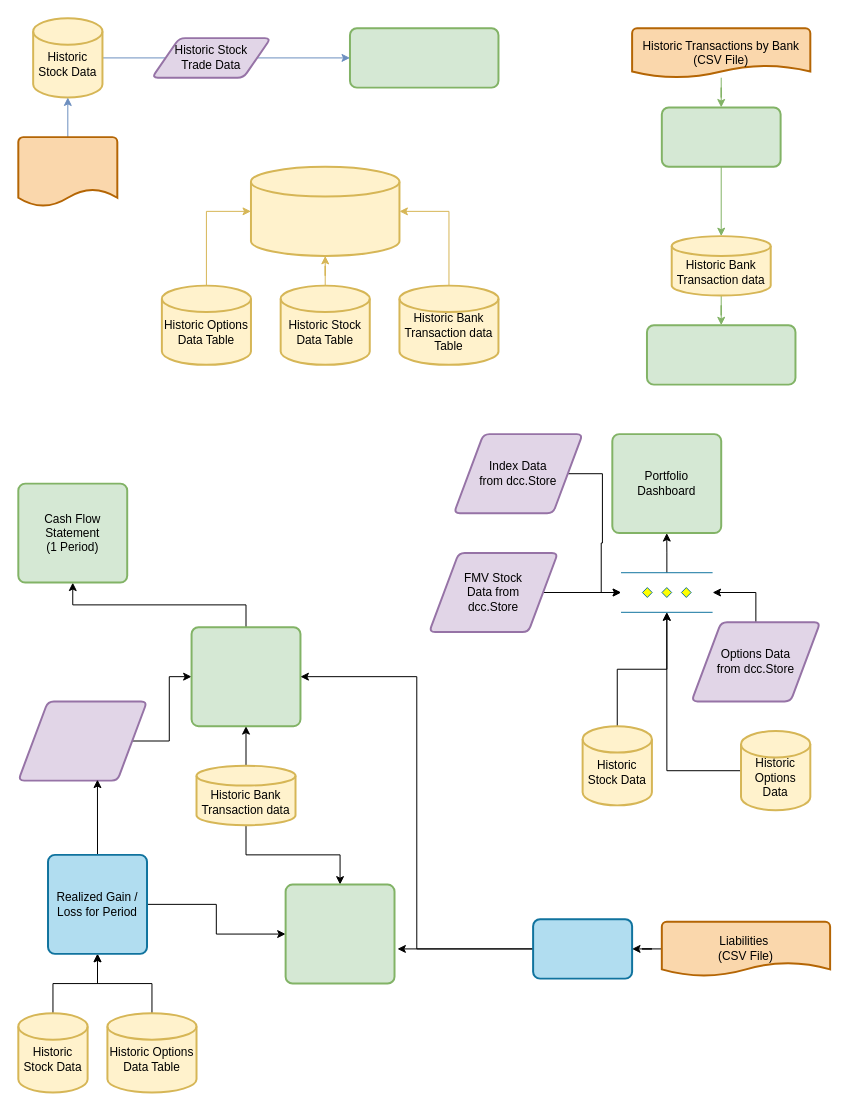
Image size: 847x1110. Some labels were removed from this diagram. Here are the shapes that lost their labels. From the top down, the box of each, then its label:
(348, 27, 499, 88): Historic Stock Data (Dashboard Tab)
(660, 106, 781, 167): Data Cleanup using Python
(17, 136, 118, 207): Historic Trade Data (CSV File)
(249, 165, 400, 256): Postgres SQL Database (Raspberry PI)
(645, 324, 796, 385): Revenue and Expense Analysis (Dashboard Tab)
(190, 626, 301, 727): Balance Sheet (Comparison of 2 Periods)
(17, 700, 148, 781): FMV Stock / Options Data from dcc.Store
(284, 883, 395, 984): Income Statement (Comparison of 2 Periods)
(532, 918, 633, 979): Liability for the period
